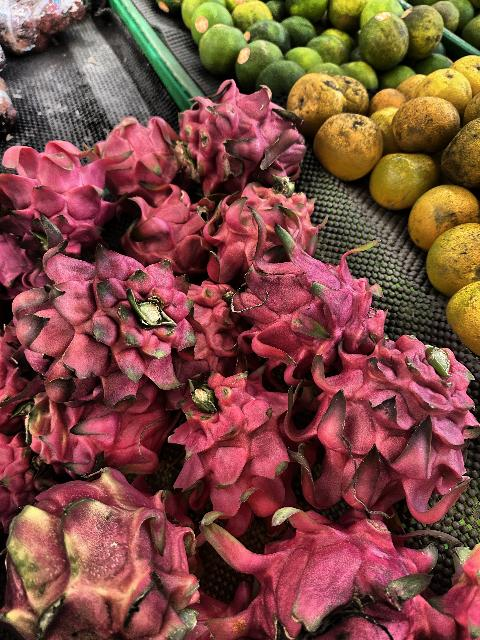buah-naga-belum-matang: (0, 470, 204, 640)
buah-naga-matang: (278, 326, 478, 524), (204, 508, 456, 640), (33, 224, 190, 392), (226, 215, 384, 358), (172, 370, 300, 516), (20, 377, 164, 473), (0, 128, 116, 245), (212, 180, 320, 276), (228, 74, 316, 188), (180, 90, 268, 184), (124, 188, 214, 274), (180, 278, 248, 376), (98, 115, 184, 188), (430, 528, 480, 640), (0, 432, 38, 520), (0, 322, 28, 421)
